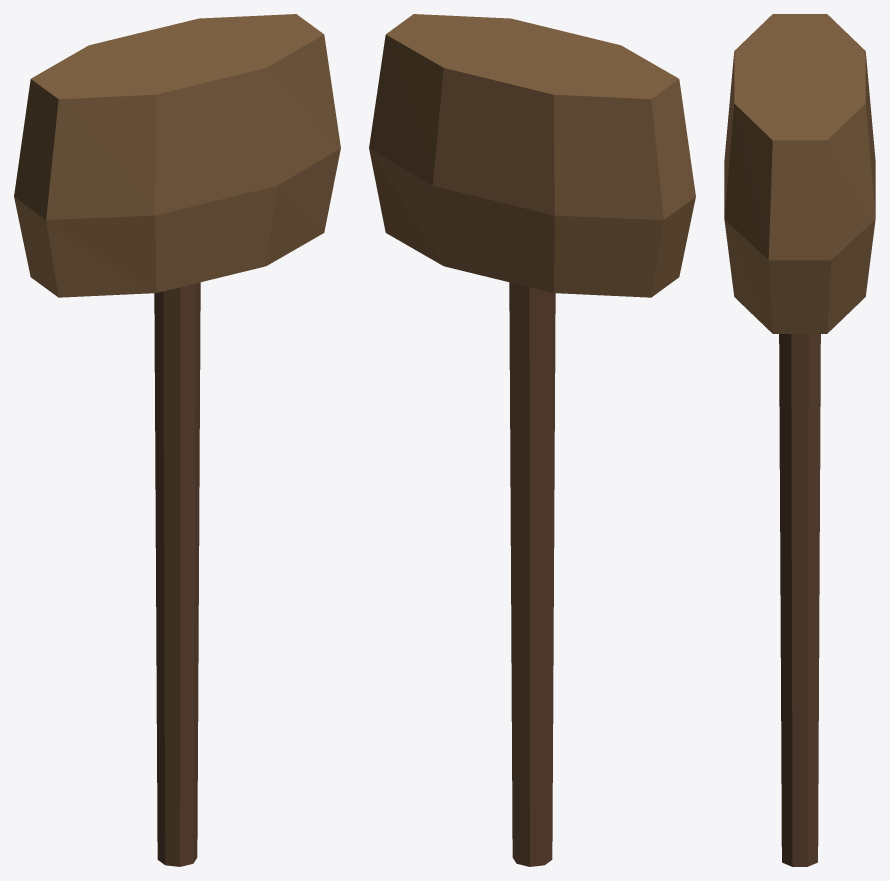
Rendered from human_mallet34.glb.
The picture shows the model from 3 angles, left to right: view 1: azimuth 30°, elevation 25°; view 2: azimuth 150°, elevation 25°; view 3: azimuth 270°, elevation 25°; orthographic projection. The views are drawn at different scales.
Parts seen in each view (by area): view 1: original_timber_mallet; view 2: original_timber_mallet; view 3: original_timber_mallet.
Part boxes in pixels (x1,y1,x2,y2): original_timber_mallet: (14, 14, 340, 866); original_timber_mallet: (369, 14, 695, 866); original_timber_mallet: (724, 14, 875, 866).
Size of the model in its own units: 0.1866 by 0.485 by 0.085.
